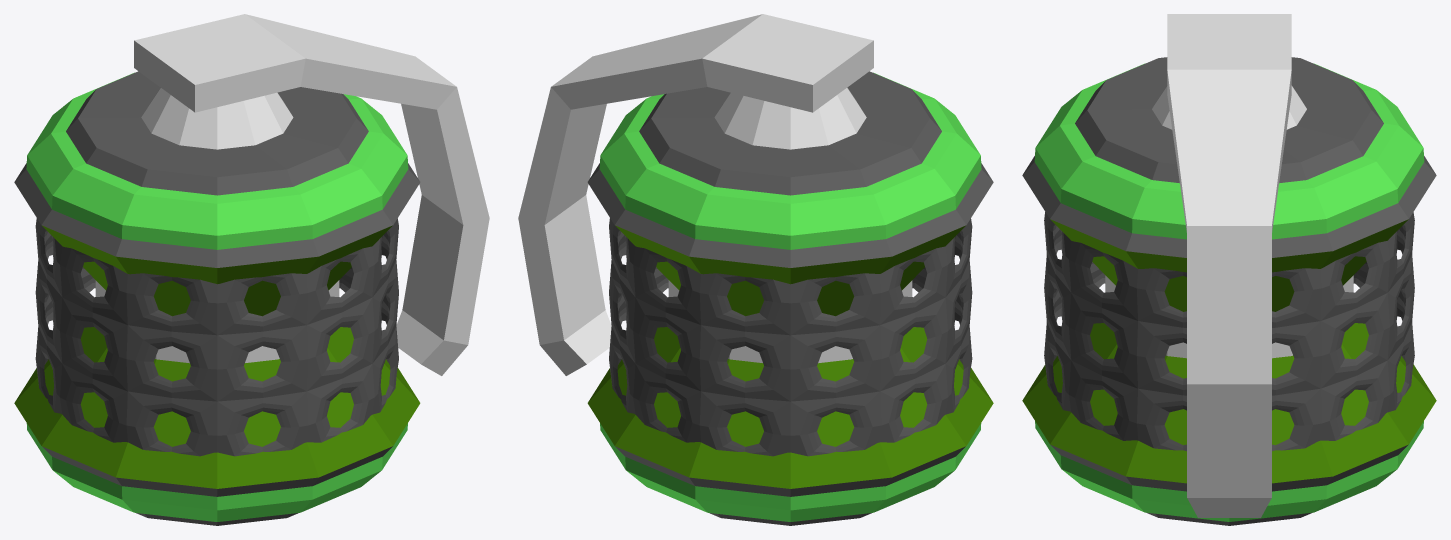
The model's file is Г8 Граната-глушитель.fbx.
3 views of the same model, side by side, from view 1: azimuth 30°, elevation 25°; view 2: azimuth 150°, elevation 25°; view 3: azimuth 270°, elevation 25° (orthographic). The views are drawn at different scales.
Parts seen in each view (by area): view 1: Cylinder, Cylinder.001, Plane; view 2: Cylinder, Cylinder.001, Plane; view 3: Cylinder, Plane, Cylinder.001.
Part boxes in pixels (bbox=[...]): Cylinder: bbox=[14, 71, 420, 525]; Cylinder.001: bbox=[35, 218, 398, 456]; Plane: bbox=[134, 14, 489, 375]; Cylinder: bbox=[587, 71, 993, 525]; Cylinder.001: bbox=[609, 218, 972, 456]; Plane: bbox=[518, 14, 873, 375]; Cylinder: bbox=[1022, 57, 1436, 525]; Plane: bbox=[1167, 14, 1291, 517]; Cylinder.001: bbox=[1044, 212, 1414, 451].
Size of the model in its own units: 243 by 227 by 200.
